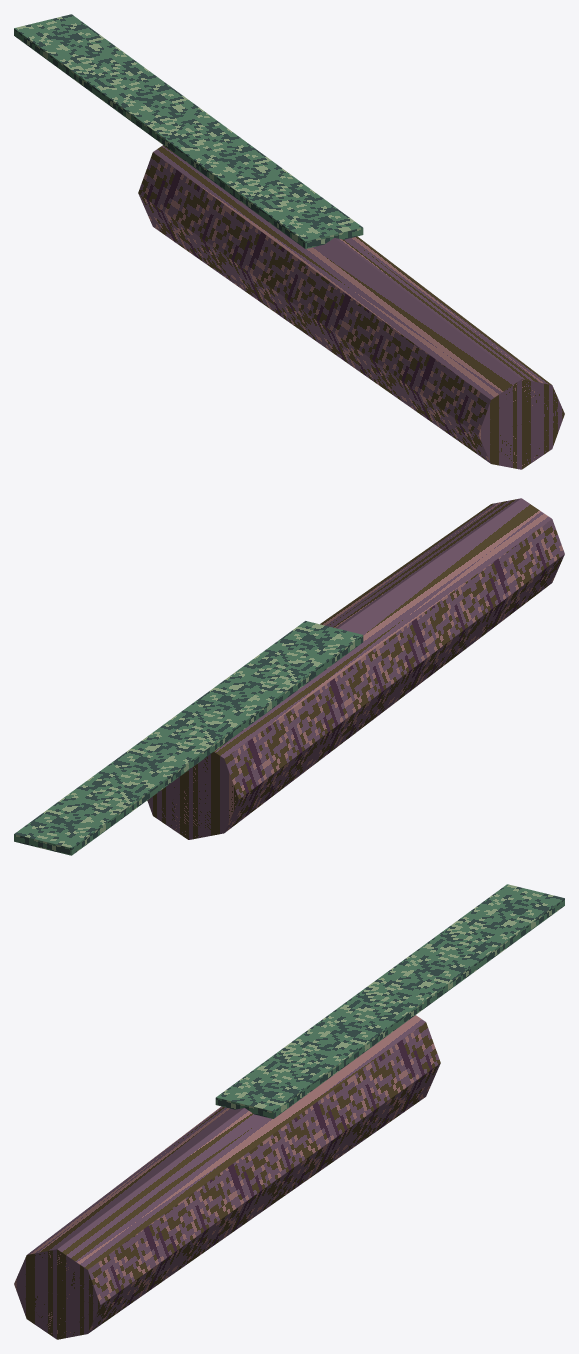
Rendered from a07_raiz_ponte.glb.
The picture shows the model from 3 angles, top to bottom: view 1: azimuth 30°, elevation 25°; view 2: azimuth 150°, elevation 25°; view 3: azimuth 330°, elevation 25°; orthographic projection.
Visible parts, largest first — view 1: a07_raiz_ponte; view 2: a07_raiz_ponte; view 3: a07_raiz_ponte.
Part boxes in pixels (x1=…): a07_raiz_ponte: x1=14, y1=14, x2=564, y2=469; a07_raiz_ponte: x1=14, y1=498, x2=564, y2=855; a07_raiz_ponte: x1=14, y1=884, x2=564, y2=1339.
Size of the model in its own units: 1.4 by 1.4 by 11.5.
2 materials, 2 textured.
